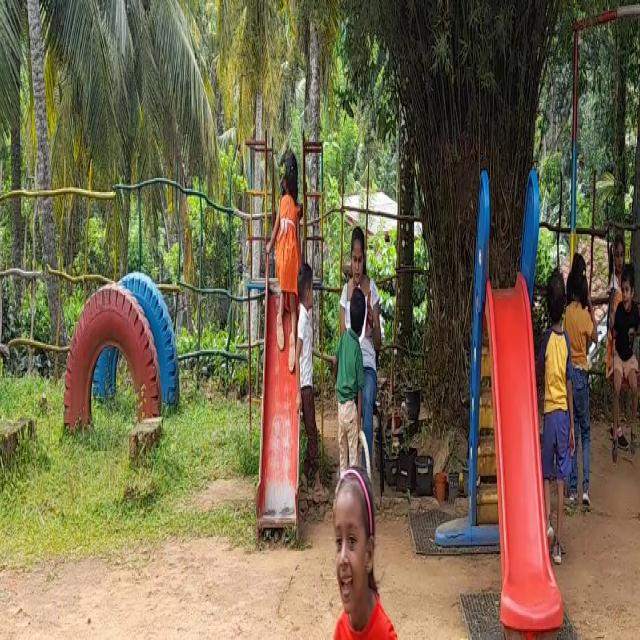child: (322, 465, 402, 640), (559, 238, 595, 516), (541, 272, 572, 557), (610, 253, 640, 474), (298, 269, 325, 499), (272, 136, 298, 354)
